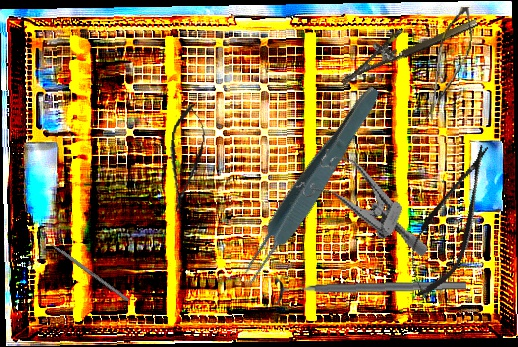Fixation Ring: (274, 270, 467, 308)
Micro Scissor: (393, 135, 509, 307), (425, 3, 476, 125), (161, 101, 210, 216)
Needle Holder: (332, 0, 479, 85)
Pusher: (35, 232, 130, 302)
Speculum: (289, 142, 449, 258)
Tissue Forceps: (231, 79, 389, 291)
